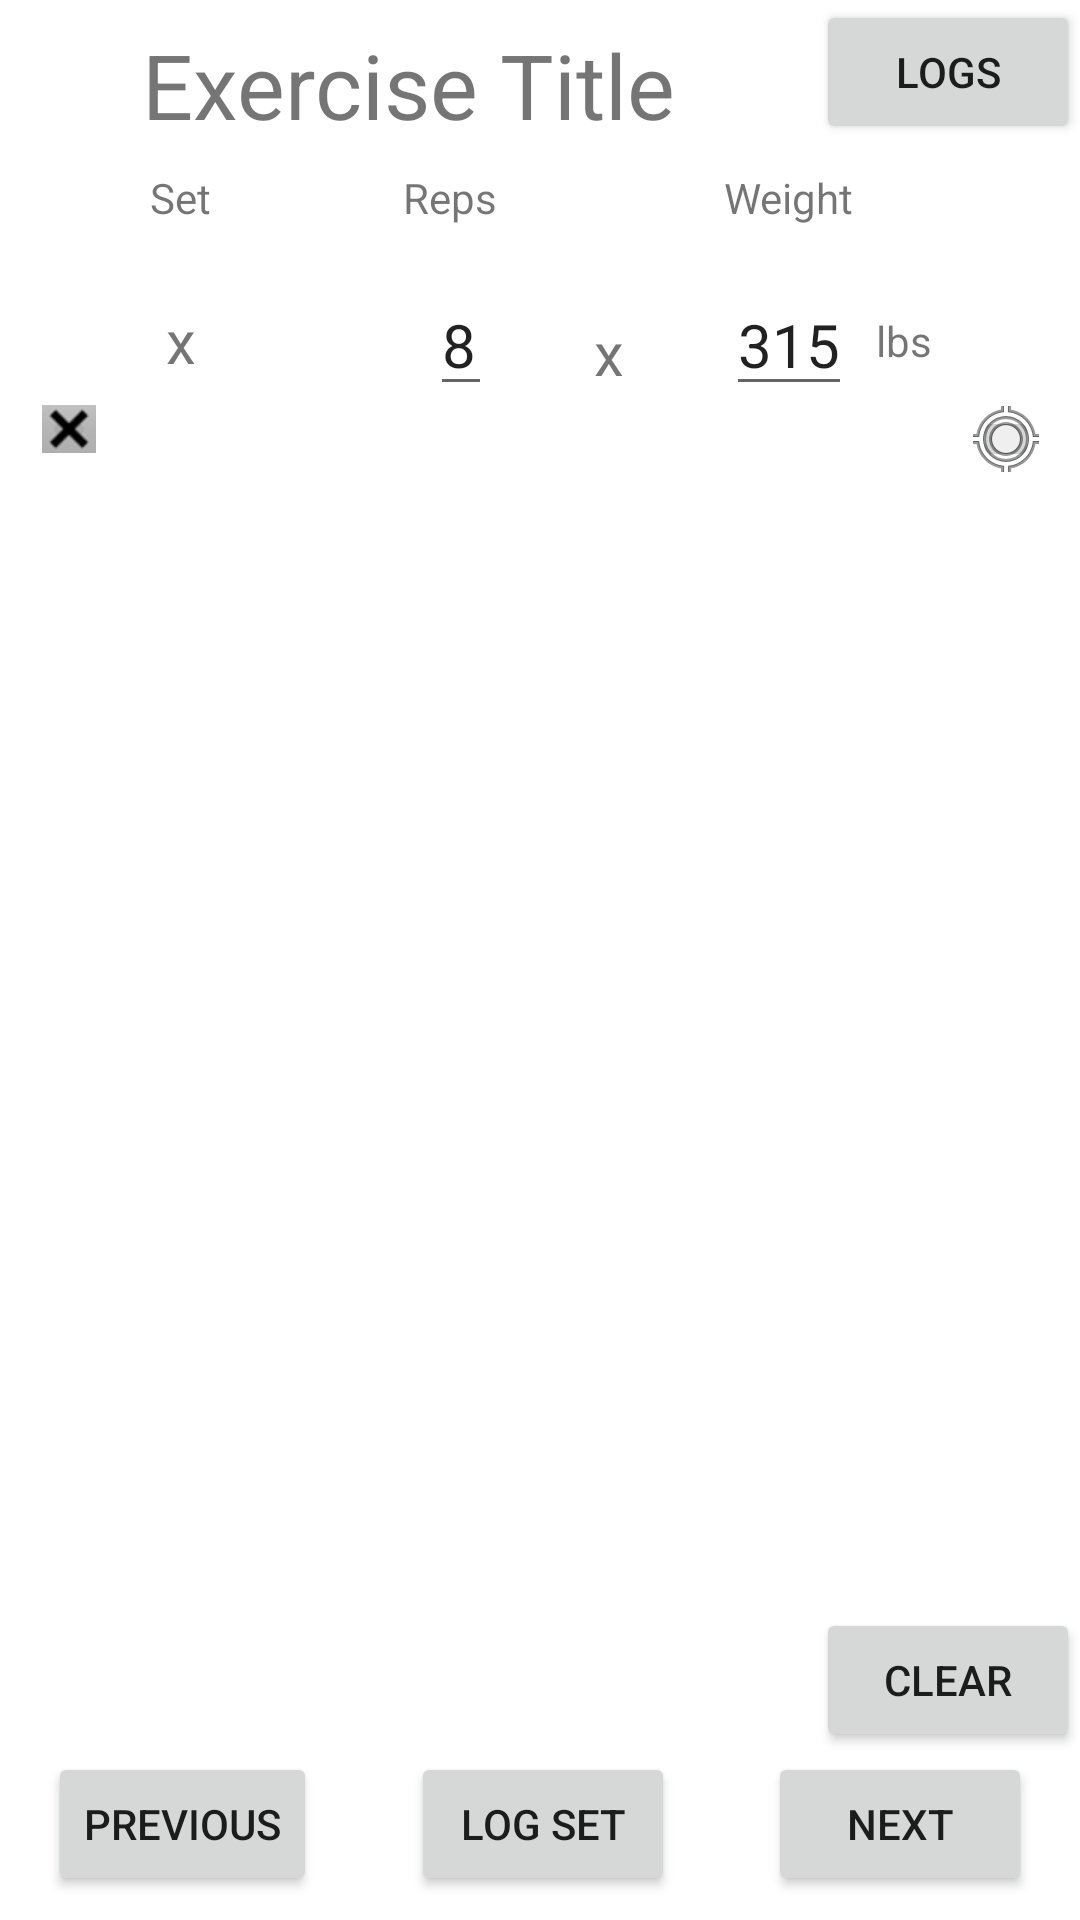

Where icons sit on this 1080 x 1920 app screen, as BBox(x1, y1, x2, y2):
mylocation: BBox(973, 406, 1039, 472)
